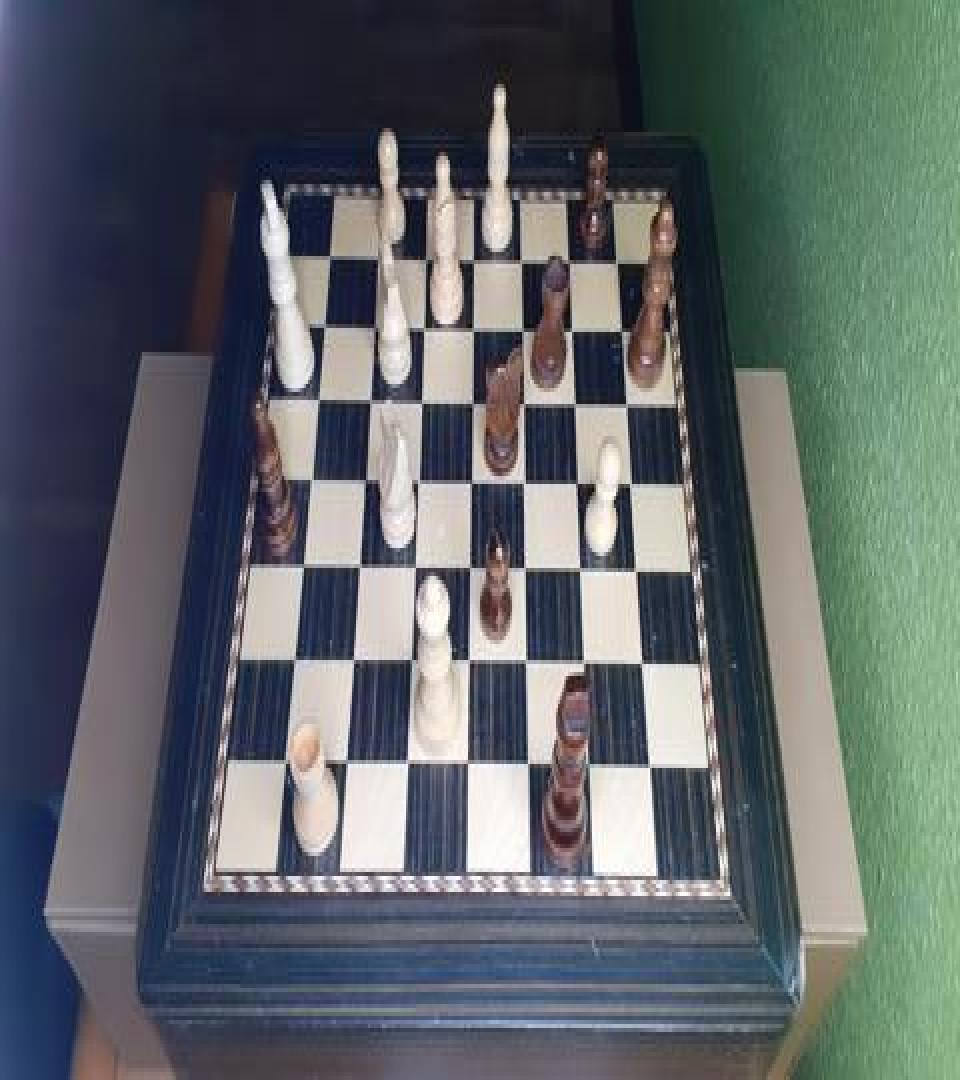xcorner: (612, 246, 626, 274), (564, 244, 578, 272), (516, 244, 530, 272), (467, 242, 481, 270), (419, 242, 433, 270), (370, 240, 384, 268), (322, 240, 336, 268), (617, 314, 631, 342), (567, 314, 581, 342), (516, 312, 530, 340), (466, 312, 480, 340), (416, 312, 430, 340), (366, 310, 380, 338), (316, 310, 330, 338), (621, 390, 635, 418), (569, 388, 583, 416), (517, 388, 531, 416), (465, 386, 479, 414), (413, 386, 427, 414), (361, 386, 375, 414), (309, 384, 323, 412), (626, 470, 640, 498), (572, 470, 586, 498), (518, 468, 532, 496), (464, 468, 478, 496), (410, 466, 424, 494), (356, 466, 370, 494), (301, 466, 315, 494), (632, 558, 646, 586), (576, 558, 590, 586), (519, 556, 533, 584), (463, 556, 477, 584), (406, 554, 420, 582), (350, 554, 364, 582), (293, 552, 307, 580), (638, 652, 652, 680), (579, 652, 593, 680), (520, 652, 534, 680), (461, 650, 475, 678), (403, 650, 417, 678), (344, 648, 358, 676), (285, 648, 299, 676), (644, 756, 658, 784), (583, 756, 597, 784), (521, 754, 535, 782), (460, 754, 474, 782), (398, 754, 412, 782), (337, 752, 351, 780), (275, 752, 289, 780)
